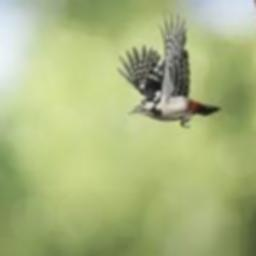Woodpecker: (115, 9, 219, 127)
